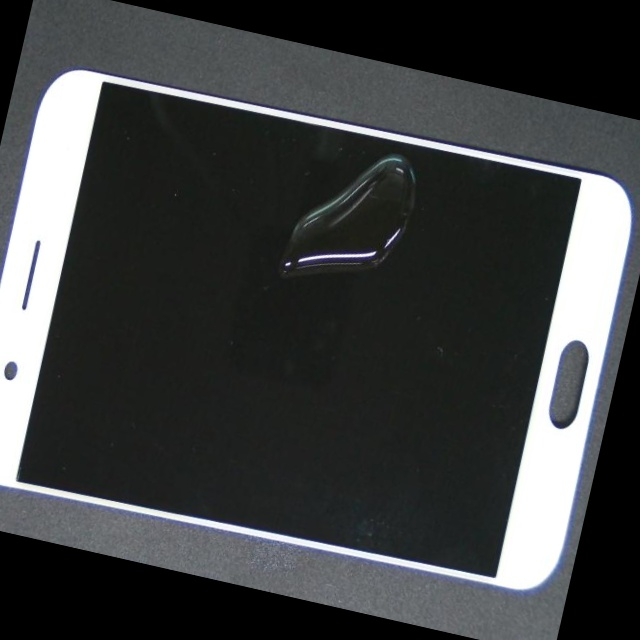oil: (211, 102, 623, 284)
